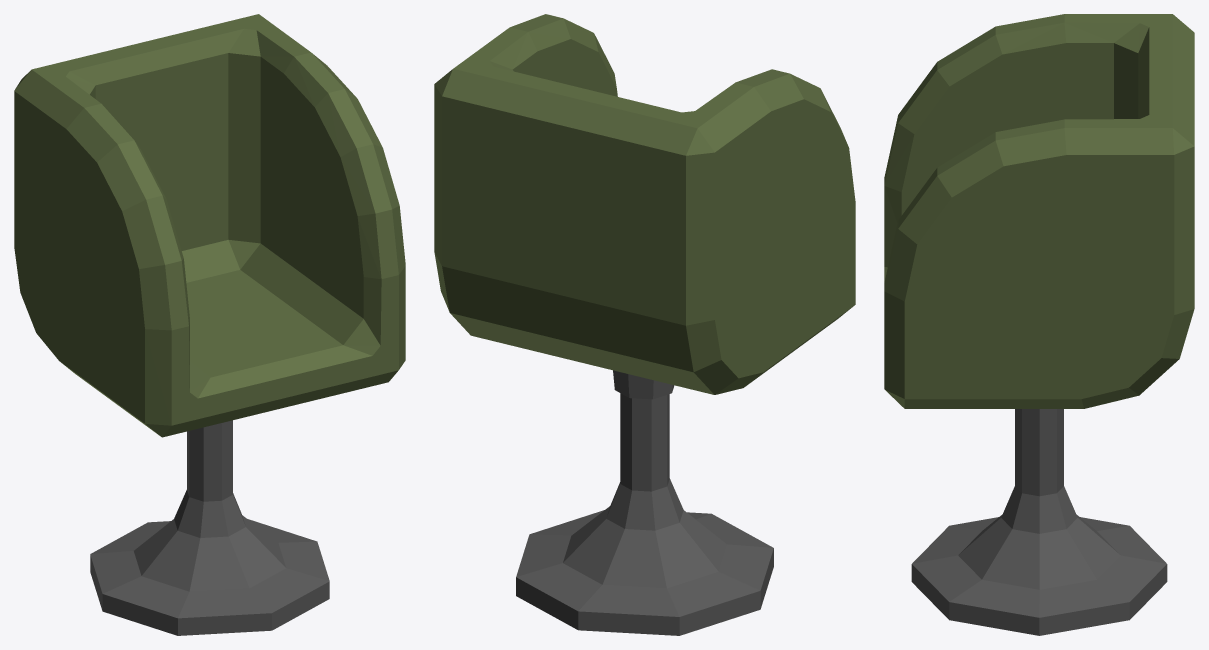
The model's file is Chair03.glb.
The picture shows the model from 3 angles, left to right: view 1: azimuth 30°, elevation 25°; view 2: azimuth 150°, elevation 25°; view 3: azimuth 270°, elevation 25°; orthographic projection. The views are drawn at different scales.
Parts seen in each view (by area): view 1: Chair03; view 2: Chair03; view 3: Chair03.
Boxes of the visible parts, left/top/right/bottom form: Chair03: left=14, top=14, right=405, bottom=635; Chair03: left=434, top=14, right=855, bottom=635; Chair03: left=884, top=14, right=1194, bottom=635.
Bounding box in the file's own units: 0.5509 × 1 × 0.5509.
